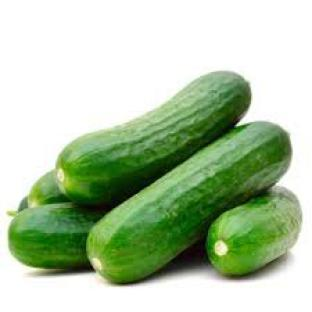Cucumber: (88, 123, 291, 282), (57, 73, 250, 205), (207, 188, 302, 274), (9, 203, 103, 269), (28, 171, 69, 207), (7, 197, 27, 216)
